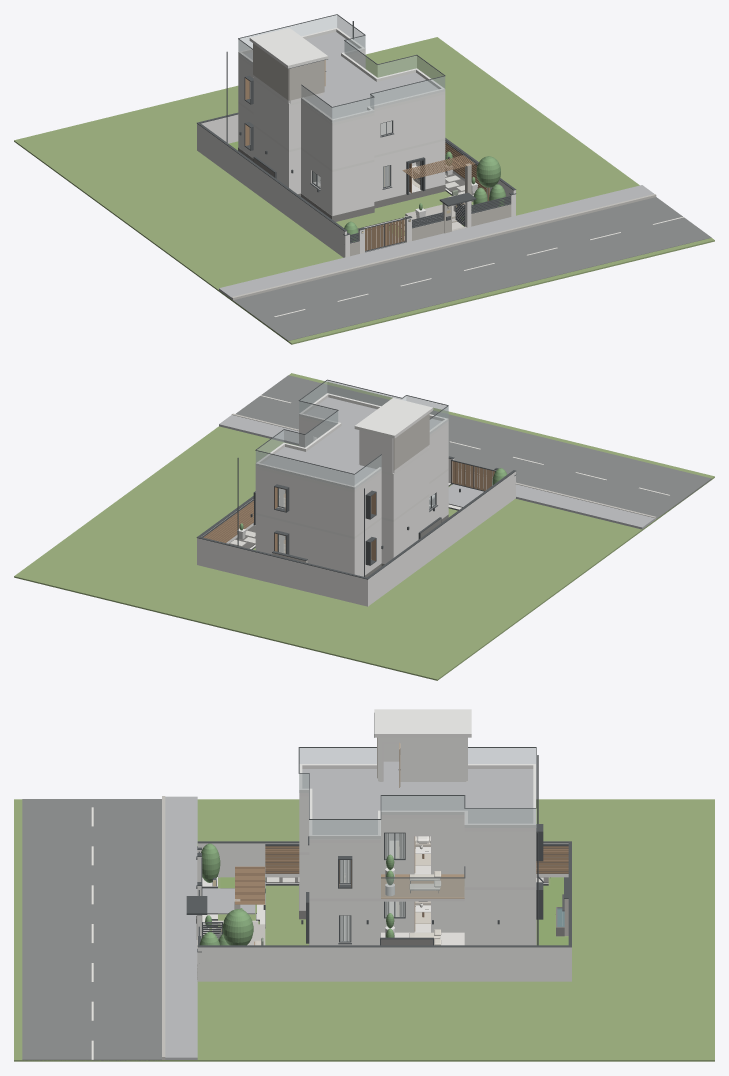
3 views of the same model, one above another, from view 1: azimuth 30°, elevation 25°; view 2: azimuth 150°, elevation 25°; view 3: azimuth 270°, elevation 25° (orthographic). The views are drawn at different scales.
Parts seen in each view (by area): view 1: world, custom-roof-finish-1, roof-guard-1, wall-96ff10851c1bf821e1/0, wall-b5126ece6da8bfb7ef/0, custom-roof-edge-1, assist-core-stair-1-headhouse-lid, wall-46450bc05e86d7dfa4/0, wall-d60ac85b1a7d308583/0, wall-e324fafd27df50ffe0/0, wall-4dd0aae4d0f13abde5/0, plinth-band (+8 smaller); view 2: world, roof-guard-1, custom-roof-finish-1, wall-a11b6f3d829da94cdb/0, custom-roof-edge-1, assist-core-stair-1-headhouse-lid, wall-d60ac85b1a7d308583/0, wall-4a963efcf298df4f0e/0, wall-4dd0aae4d0f13abde5/0, assist-core-stair-1-roof-wall-rear/0, wall-e324fafd27df50ffe0/0, wall-1321858676989ee498/1 (+9 smaller); view 3: world, custom-roof-finish-1, roof-guard-1, wall-729308aa4efaee1bb4/0, wall-f3b46628e944bd6297/0, assist-core-stair-1-headhouse-lid, assist-core-stair-1-roof-wall-right/0, custom-roof-edge-1, upper-1-veranda-guard-0, wall-8e25a7ec5377f87f13/1, wall-d037abc5e40964521a/1, upper-1-veranda/floor (+13 smaller).
Boxes of the visible parts, <box> form: world: <box>14,21,714,344</box>; custom-roof-finish-1: <box>245,32,438,118</box>; roof-guard-1: <box>238,15,445,122</box>; wall-96ff10851c1bf821e1/0: <box>334,162,374,215</box>; wall-b5126ece6da8bfb7ef/0: <box>334,116,374,169</box>; custom-roof-edge-1: <box>238,27,445,123</box>; assist-core-stair-1-headhouse-lid: <box>249,28,328,68</box>; wall-46450bc05e86d7dfa4/0: <box>406,94,445,147</box>; wall-d60ac85b1a7d308583/0: <box>253,80,291,149</box>; wall-e324fafd27df50ffe0/0: <box>301,103,334,169</box>; wall-4dd0aae4d0f13abde5/0: <box>253,127,291,189</box>; plinth-band: <box>238,147,445,221</box>; world: <box>14,373,714,680</box>; roof-guard-1: <box>255,380,448,489</box>; custom-roof-finish-1: <box>262,397,441,485</box>; wall-a11b6f3d829da94cdb/0: <box>308,482,352,536</box>; custom-roof-edge-1: <box>255,393,448,490</box>; assist-core-stair-1-headhouse-lid: <box>354,398,433,438</box>; wall-d60ac85b1a7d308583/0: <box>391,450,429,519</box>; wall-4a963efcf298df4f0e/0: <box>308,528,352,573</box>; wall-4dd0aae4d0f13abde5/0: <box>391,496,429,558</box>; assist-core-stair-1-roof-wall-rear/0: <box>359,430,393,473</box>; wall-e324fafd27df50ffe0/0: <box>428,424,448,481</box>; wall-1321858676989ee498/1: <box>255,480,308,514</box>; world: <box>14,713,714,1061</box>; custom-roof-finish-1: <box>302,761,533,834</box>; roof-guard-1: <box>299,748,536,839</box>; wall-729308aa4efaee1bb4/0: <box>464,831,533,887</box>; wall-f3b46628e944bd6297/0: <box>464,890,533,945</box>; assist-core-stair-1-headhouse-lid: <box>374,709,471,737</box>; assist-core-stair-1-roof-wall-right/0: <box>379,742,466,781</box>; custom-roof-edge-1: <box>299,764,536,840</box>; upper-1-veranda-guard-0: <box>381,878,464,897</box>; wall-8e25a7ec5377f87f13/1: <box>312,915,380,942</box>; wall-d037abc5e40964521a/1: <box>312,857,380,884</box>; upper-1-veranda/floor: <box>381,874,464,898</box>.
Size of the model in its own units: 30.2 by 9.58 by 34.29.
